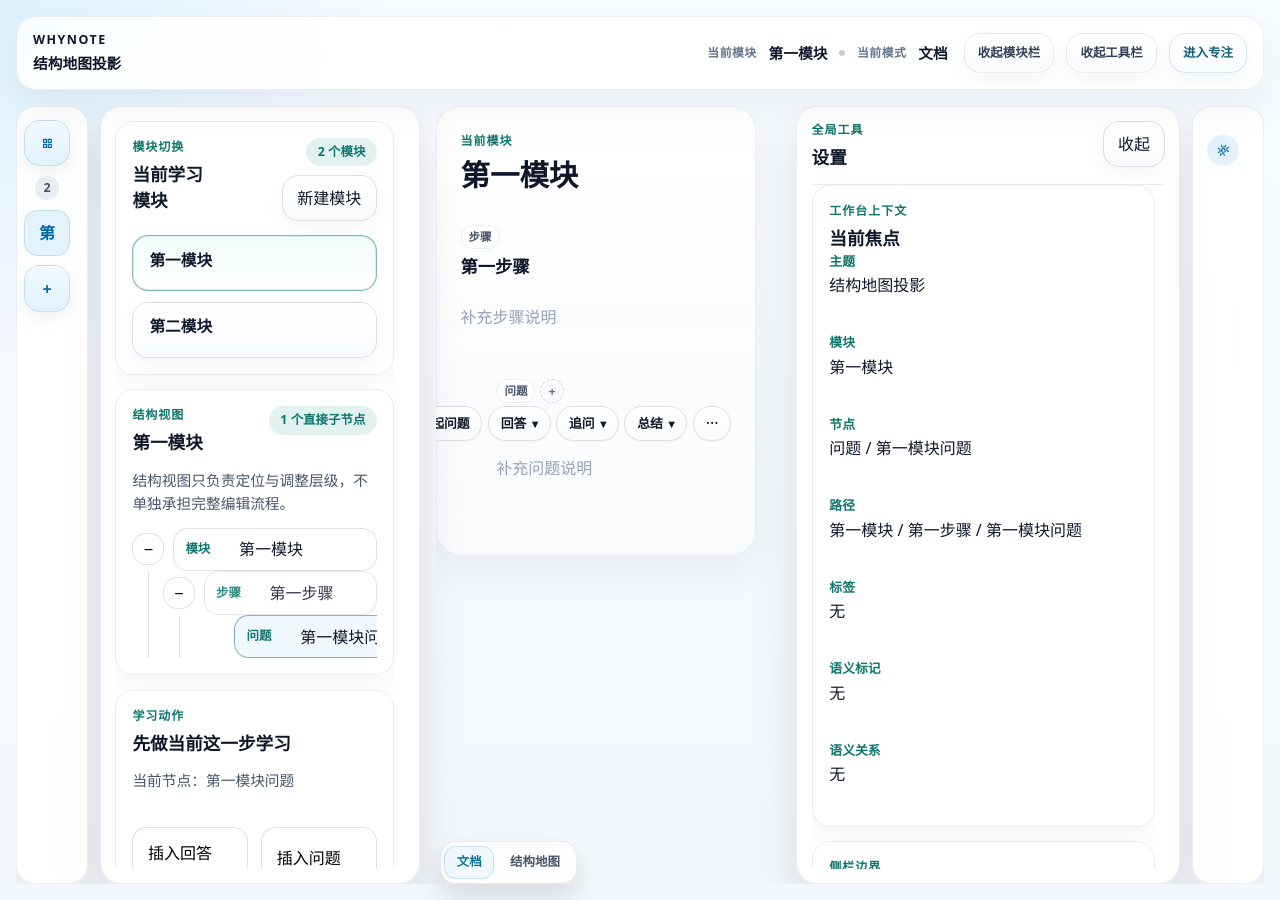
projects only the current module into the structure map and excludes root resources
Click the button with test id "workspace-main-view-tab-structure-map" at (535, 863), box x1=498 y1=846 x2=572 y2=879
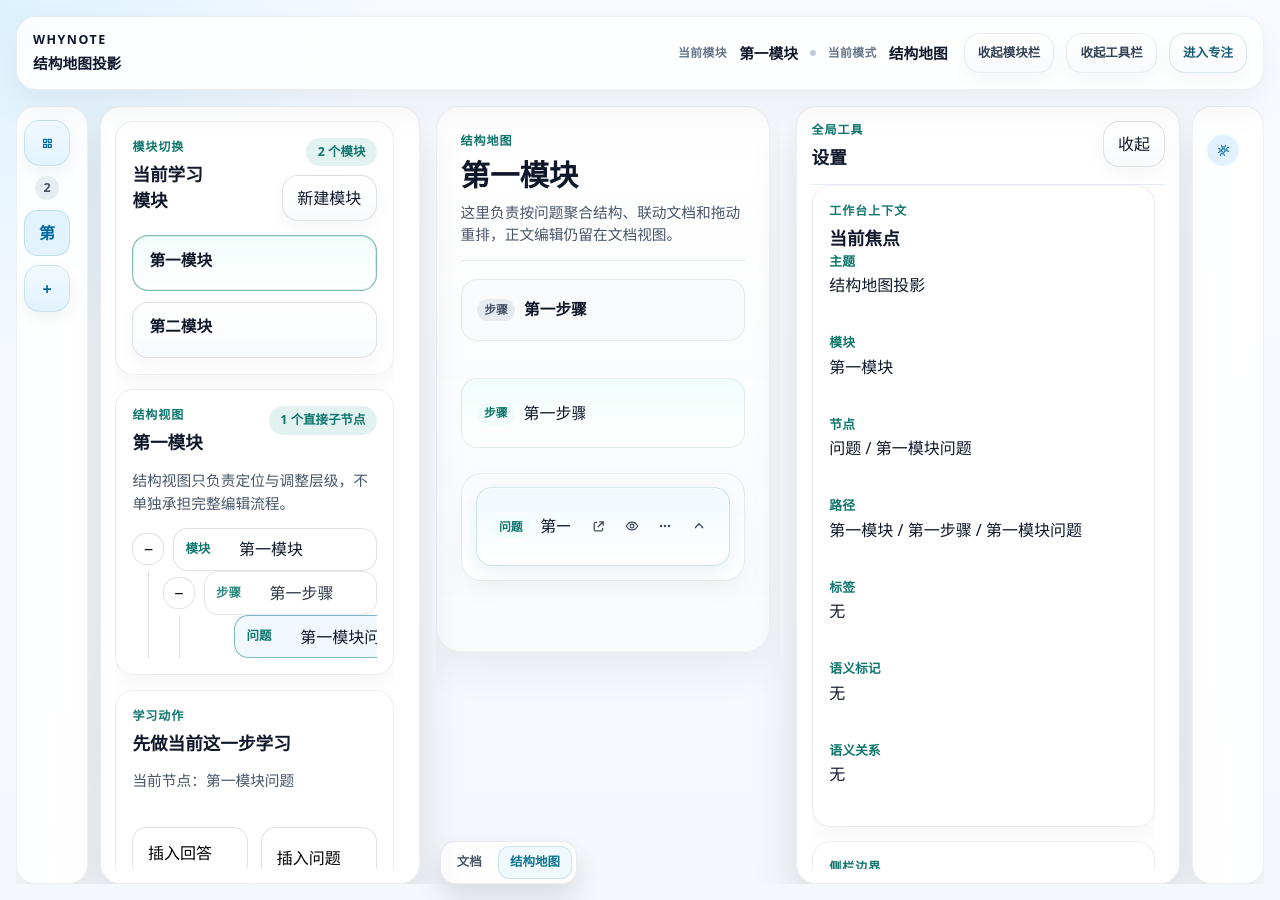
Now the element with test id "structure-map-question-question-structure-map-a" is shown, box x1=460 y1=473 x2=746 y2=581
Click the button "第二模块" at (255, 330), box x1=132 y1=302 x2=377 y2=358
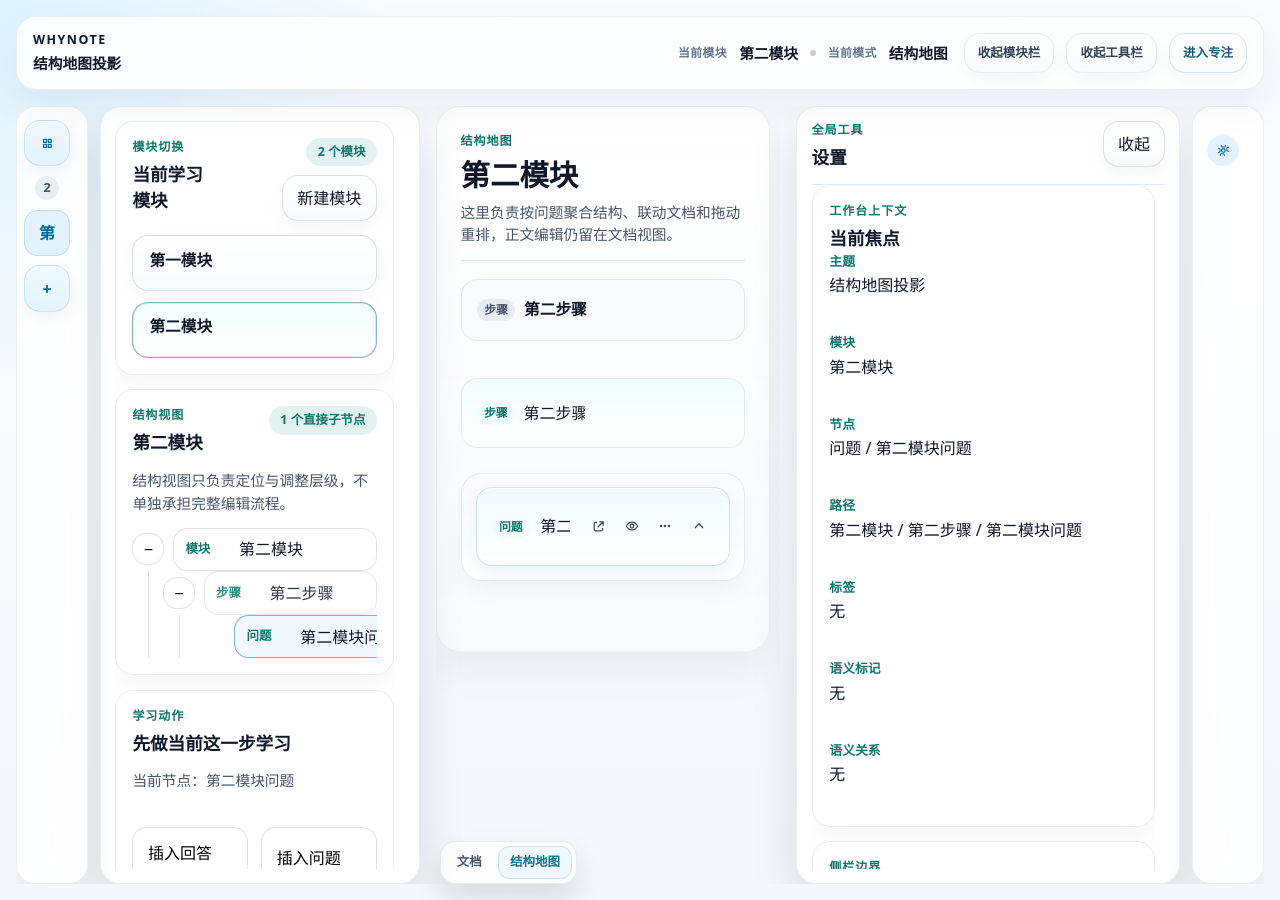
Now the element with test id "structure-map-question-question-structure-map-b" is shown, box x1=460 y1=473 x2=746 y2=581
Now the element with test id "structure-map-question-question-structure-map-a" is gone
